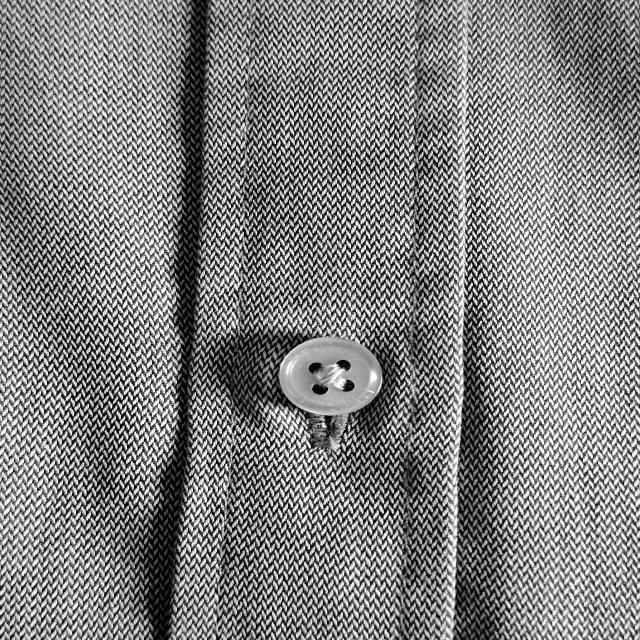Button_hike: (263, 333, 393, 460)
